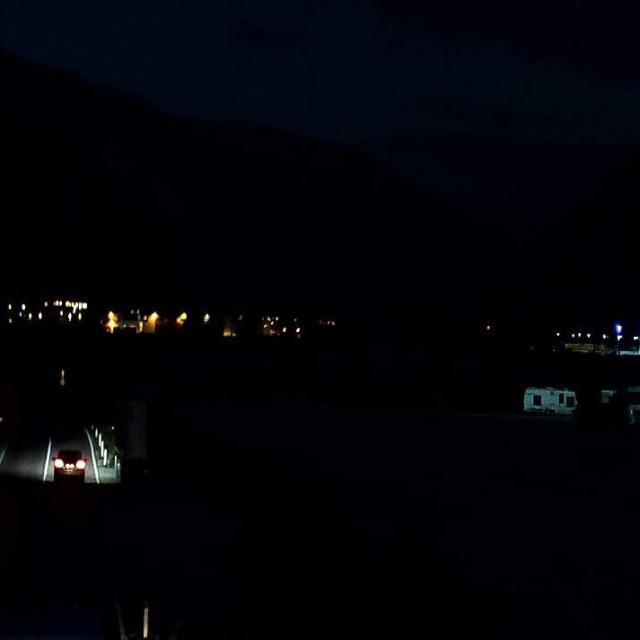bus: (0, 579, 123, 640)
car: (54, 444, 87, 489)
